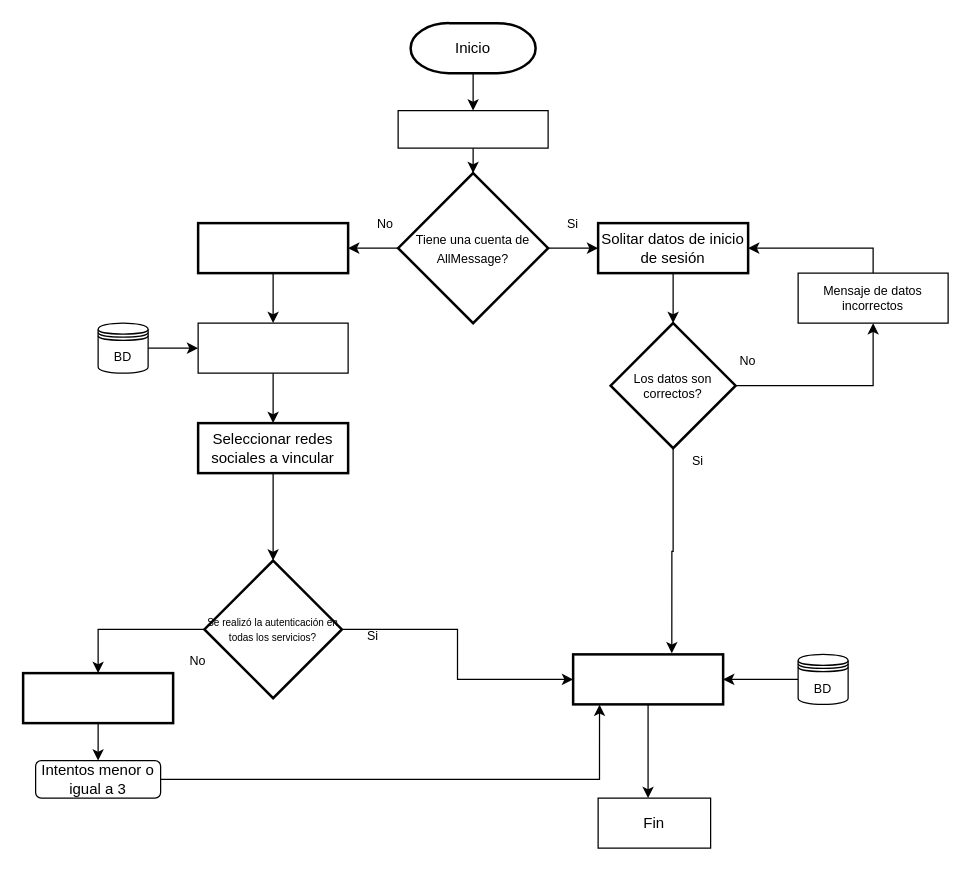
This 970x870 diagram has some shape labels left out. The shapes that lost their labels are listed below. From the top down, each one's box as (x1, y1, x2, y2) in pixels, then its label:
(397, 109, 548, 148): Inicio del app
(196, 221, 349, 274): Llenar formulario
(197, 322, 348, 373): Crear nuevo usuario en la BD
(21, 671, 174, 724): Autenticación en las redes
(571, 652, 724, 705): Mostrar pantalla principal
